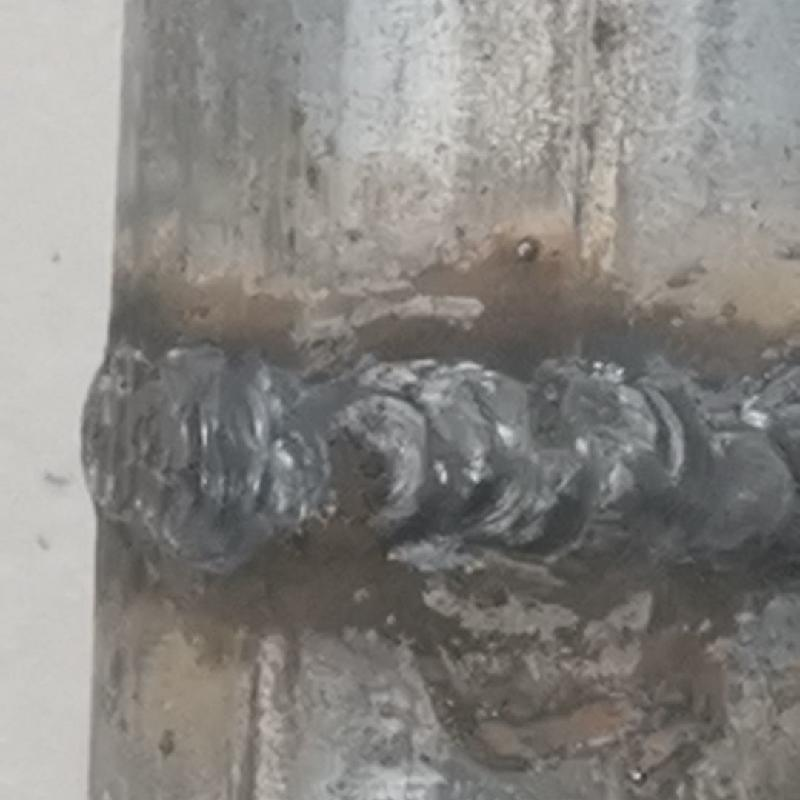good: (68, 330, 799, 566)
